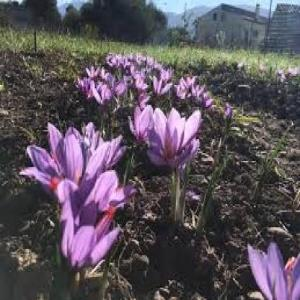Saffron: (59, 192, 119, 274), (31, 132, 96, 193), (246, 242, 300, 300), (147, 109, 201, 165)
